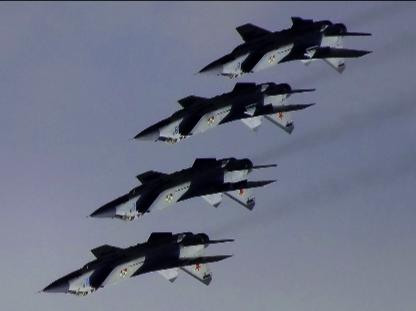Mig31: (34, 232, 234, 296), (82, 157, 276, 221), (126, 82, 316, 144), (192, 17, 372, 80)
